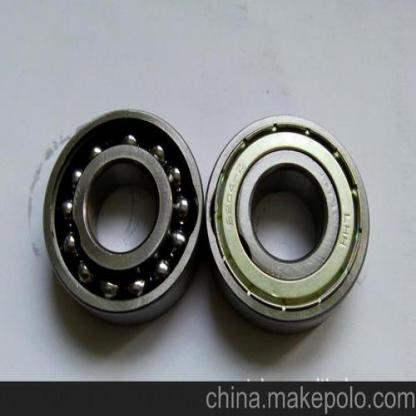FOD: (37, 106, 206, 329), (206, 111, 371, 336)
